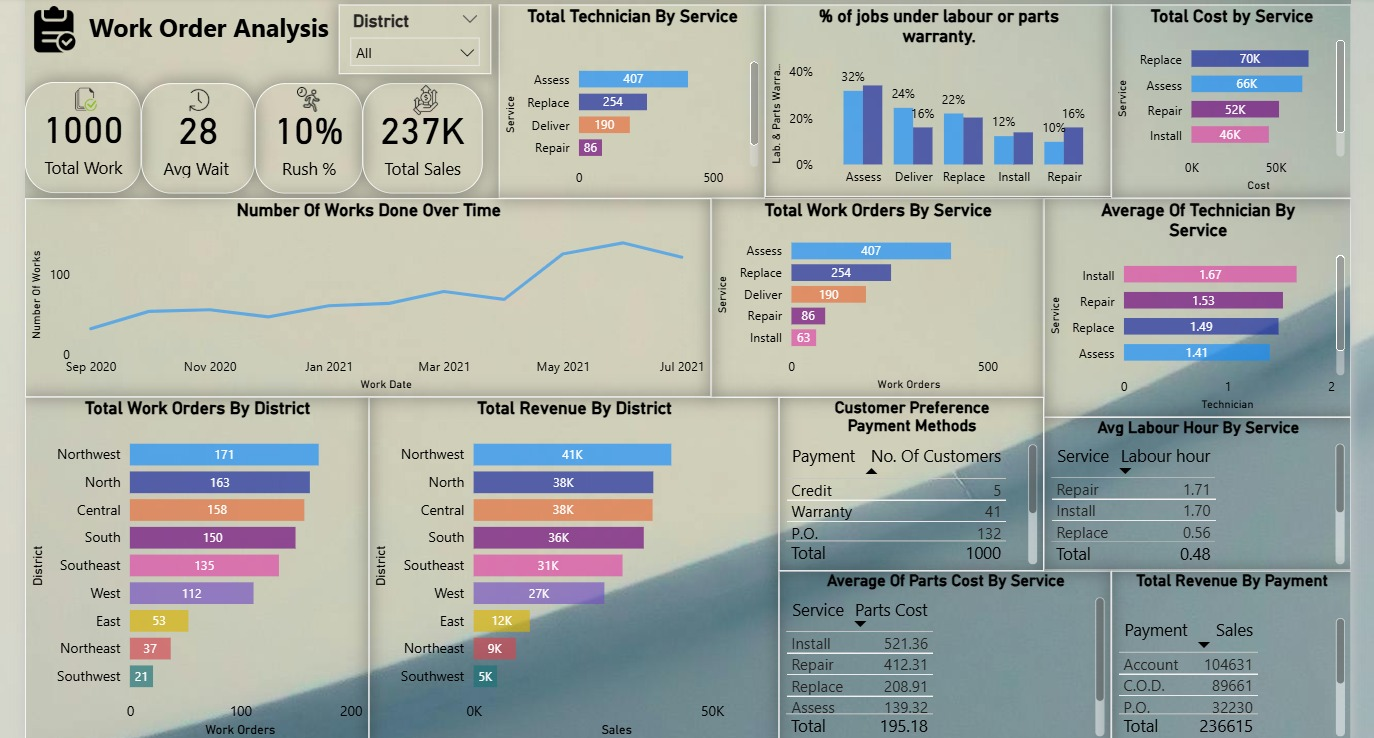

The dashboard page shown, as its layout file describes it:
{"tool":"powerbi","page":{"name":"Work Order Analysis Dashboard","canvas":[1280,720],"ordinal":0},"visuals":[{"type":"textbox","box":[56.7,8.4,246.1,62.7],"z":0},{"type":"card","fields":{"Values":["Work_Orders Table.Total Work Orders"]},"box":[0,82,112.2,107.4],"z":1000},{"type":"card","fields":{"Values":["Work_Orders Table.Avg Wait Days"]},"box":[112.2,83.2,109.8,106.2],"z":2000},{"type":"card","fields":{"Values":["Work_Orders Table.Rush_Percentage"]},"box":[222,83.2,103.8,106.2],"z":3000},{"type":"card","fields":{"Values":["Sum(Work_Orders Table.Revenue)"]},"box":[325.7,83.2,115.8,106.2],"z":4000},{"type":"barChart","title":"Total Work Orders By Service ","fields":{"Category":["Work_Orders Table.Service"],"Y":["Work_Orders Table.Total Work Orders"],"Series":["Work_Orders Table.Service"]},"box":[662.3,194.2,320.9,191.8],"z":5000},{"type":"barChart","title":"Total Work Orders By District ","fields":{"Category":["Work_Orders Table.District"],"Y":["Work_Orders Table.Total Work Orders"],"Series":["Work_Orders Table.District"]},"box":[0,386.1,331.8,334.2],"z":6000},{"type":"barChart","title":"Total Revenue By District","fields":{"Category":["Work_Orders Table.District"],"Series":["Work_Orders Table.District"],"Y":["Sum(Work_Orders Table.Revenue)"]},"box":[331.8,386.1,395.7,334.2],"z":7000},{"type":"image","box":[0,0,57.9,62.7],"z":8000},{"type":"barChart","title":"Average Of Technician  By Service ","fields":{"Category":["Work_Orders Table.Service"],"Y":["Avg(Work_Orders Table.technician )"],"Series":["Work_Orders Table.Service"]},"box":[983.2,194.2,296.8,211.1],"z":9000},{"type":"barChart","title":"Total Technician  By Service ","fields":{"Category":["Work_Orders Table.Service"],"Y":["CountNonNull(Work_Orders Table.technician )"],"Series":["Work_Orders Table.Service"]},"box":[457.2,7.2,257,187],"z":10000},{"type":"slicer","fields":{"Values":["Work_Orders Table.District"]},"box":[302.8,7.2,147.2,67.6],"z":11000},{"type":"lineChart","title":"Number Of Works Done Over Time","fields":{"Y":["CountNonNull(Work_Orders Table.Id)"],"Category":["Work_Orders Table.Work Date.Variation.Date Hierarchy.Year","Work_Orders Table.Work Date.Variation.Date Hierarchy.Month"]},"box":[0,194.2,662.3,191.8],"z":12000},{"type":"tableEx","title":"Avg Labour Hour By Service ","fields":{"Values":["Work_Orders Table.Service","Avg(Work_Orders Table.labour hour)"]},"box":[983.2,405.4,296.8,148.4],"z":13000},{"type":"tableEx","title":"Average Of Parts Cost By Service ","fields":{"Values":["Work_Orders Table.Service","Avg(Work_Orders Table.Parts Cost)"]},"box":[727.5,553.8,320.9,166.5],"z":14000},{"type":"tableEx","title":" Customer Preference Payment Methods","fields":{"Values":["Work_Orders Table.Payment","CountNonNull(Work_Orders Table.Id)"]},"box":[727.5,386.1,255.8,167.7],"z":15000},{"type":"tableEx","title":"Total Revenue By Payment ","fields":{"Values":["Work_Orders Table.Payment","Sum(Work_Orders Table.Revenue)"]},"box":[1048.4,553.8,231.6,166.5],"z":16000},{"type":"barChart","title":" Total Cost by Service","fields":{"Category":["Work_Orders Table.Service"],"Y":["Sum(Work_Orders Table.Total Cost)"],"Series":["Work_Orders Table.Service"]},"box":[1048.4,7.2,231.6,187],"z":17000},{"type":"clusteredColumnChart","title":"% of jobs under labour or parts warranty.","fields":{"Y":["CountNonNull(Work_Orders Table.Labour Warranty Yes)","CountNonNull(Work_Orders Table.Parts Warranty Yes)"],"Category":["Work_Orders Table.Service"]},"box":[714.2,7.2,334.2,185.8],"z":18000},{"type":"image","box":[12.1,82,92.9,33.8],"z":19000},{"type":"image","box":[126.7,74.8,80.8,49.5],"z":20000},{"type":"image","box":[232.8,82,80.8,33.8],"z":21000},{"type":"image","box":[353.5,74.8,66.4,53.1],"z":22000}]}

Visuals, with their boxes in screenshot pixels (x1, y1, x2, y2):
textbox: <box>104,19,352,83</box>
card - Work_Orders Table.Total Work Orders: <box>47,94,160,202</box>
card - Work_Orders Table.Avg Wait Days: <box>160,95,271,202</box>
card - Work_Orders Table.Rush_Percentage: <box>271,95,375,202</box>
card - Sum(Work_Orders Table.Revenue): <box>375,95,492,202</box>
"Total Work Orders By Service " barChart: <box>715,207,1039,400</box>
"Total Work Orders By District " barChart: <box>47,401,382,737</box>
"Total Revenue By District" barChart: <box>382,401,781,737</box>
image: <box>47,11,105,74</box>
"Average Of Technician  By Service " barChart: <box>1039,207,1339,420</box>
"Total Technician  By Service " barChart: <box>508,18,768,207</box>
slicer - Work_Orders Table.District: <box>352,18,501,86</box>
"Number Of Works Done Over Time" lineChart: <box>47,207,715,400</box>
"Avg Labour Hour By Service " tableEx: <box>1039,420,1339,570</box>
"Average Of Parts Cost By Service " tableEx: <box>781,570,1105,737</box>
" Customer Preference Payment Methods" tableEx: <box>781,401,1039,570</box>
"Total Revenue By Payment " tableEx: <box>1105,570,1339,737</box>
" Total Cost by Service" barChart: <box>1105,18,1339,207</box>
"% of jobs under labour or parts warranty." clusteredColumnChart: <box>768,18,1105,206</box>
image: <box>59,94,153,128</box>
image: <box>174,86,256,136</box>
image: <box>282,94,363,128</box>
image: <box>403,86,470,140</box>
